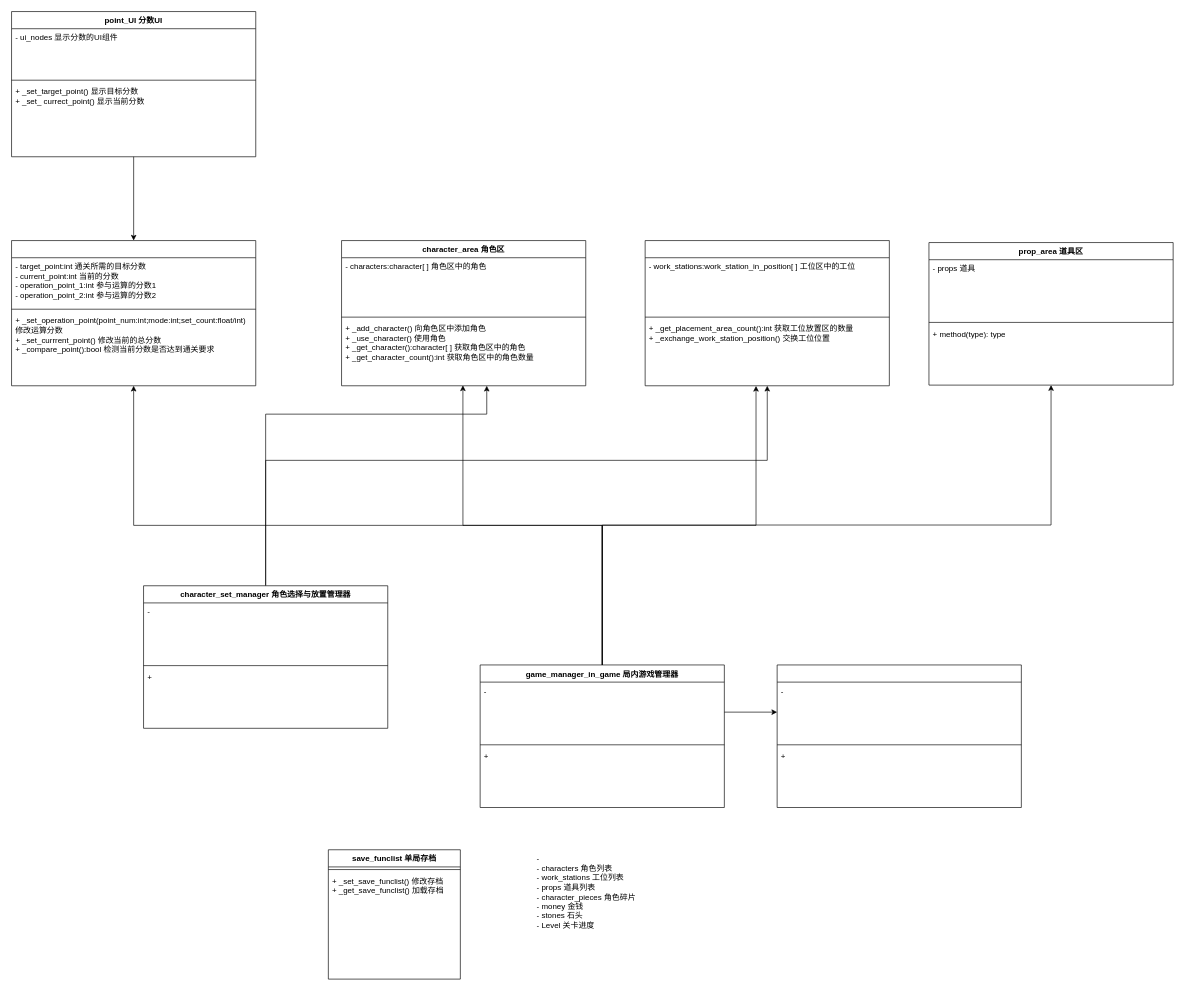
This 1185x993 diagram has some shape labels left out. The shapes that lost their labels are listed below. From the top down, each one's box as (x1, y1, x2, y2) in pixels, then its label:
(11, 240, 256, 386): point_manager 分数系统
(644, 240, 889, 386): work_station_area 工位区
(776, 664, 1021, 808): signal_manager_in_game 局内信号管理器
